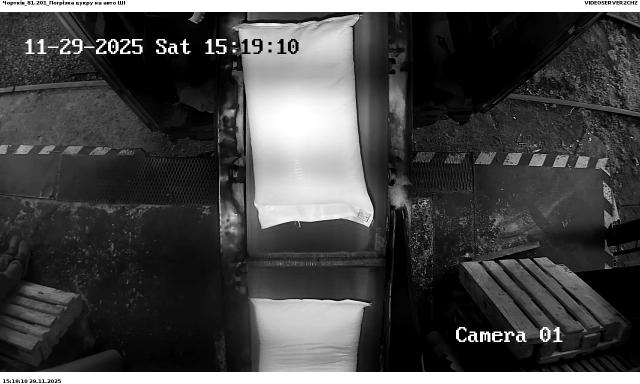bag: (235, 15, 375, 229), (250, 298, 372, 372)
